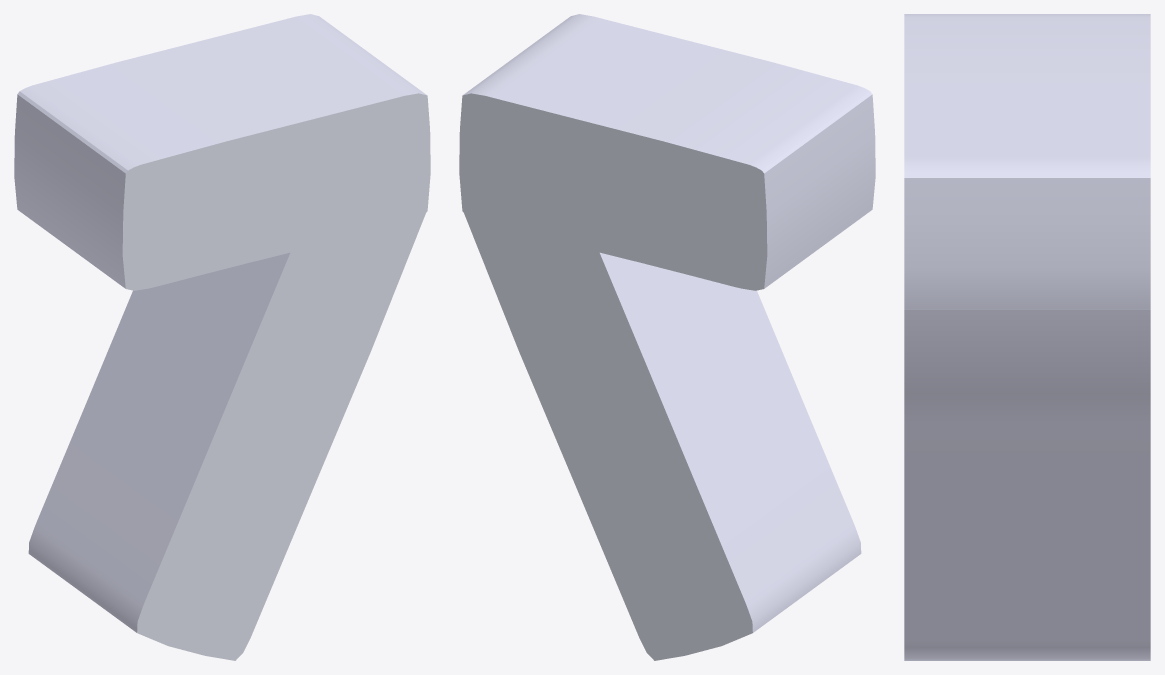
Rendered from 2817deb1-a175-4bcd-a5d2-c4e158c2df00.glb.
The picture shows the model from 3 angles, left to right: view 1: azimuth 30°, elevation 25°; view 2: azimuth 150°, elevation 25°; view 3: azimuth 270°, elevation 25°; orthographic projection. The views are drawn at different scales.
Visible parts, largest first — view 1: 7_Zyzol_Grey; view 2: 7_Zyzol_Grey; view 3: 7_Zyzol_Grey.
Boxes of the visible parts, x1,y1,x2,y2 form: 7_Zyzol_Grey: (14,14,430,660); 7_Zyzol_Grey: (459,14,875,660); 7_Zyzol_Grey: (904,14,1150,660).
Size of what is drawn, in the model's own units: 0.0738 by 0.12 by 0.045.
2 materials, 2 textured.
